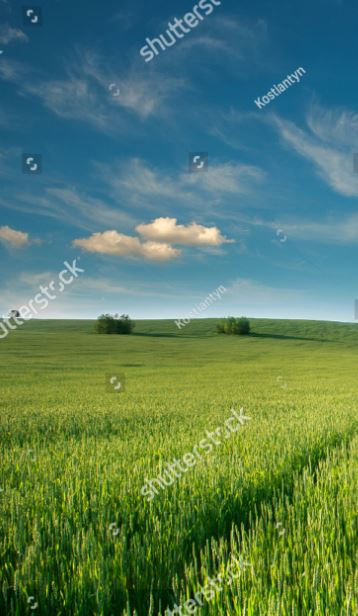Wheat: (24, 372, 332, 602)
